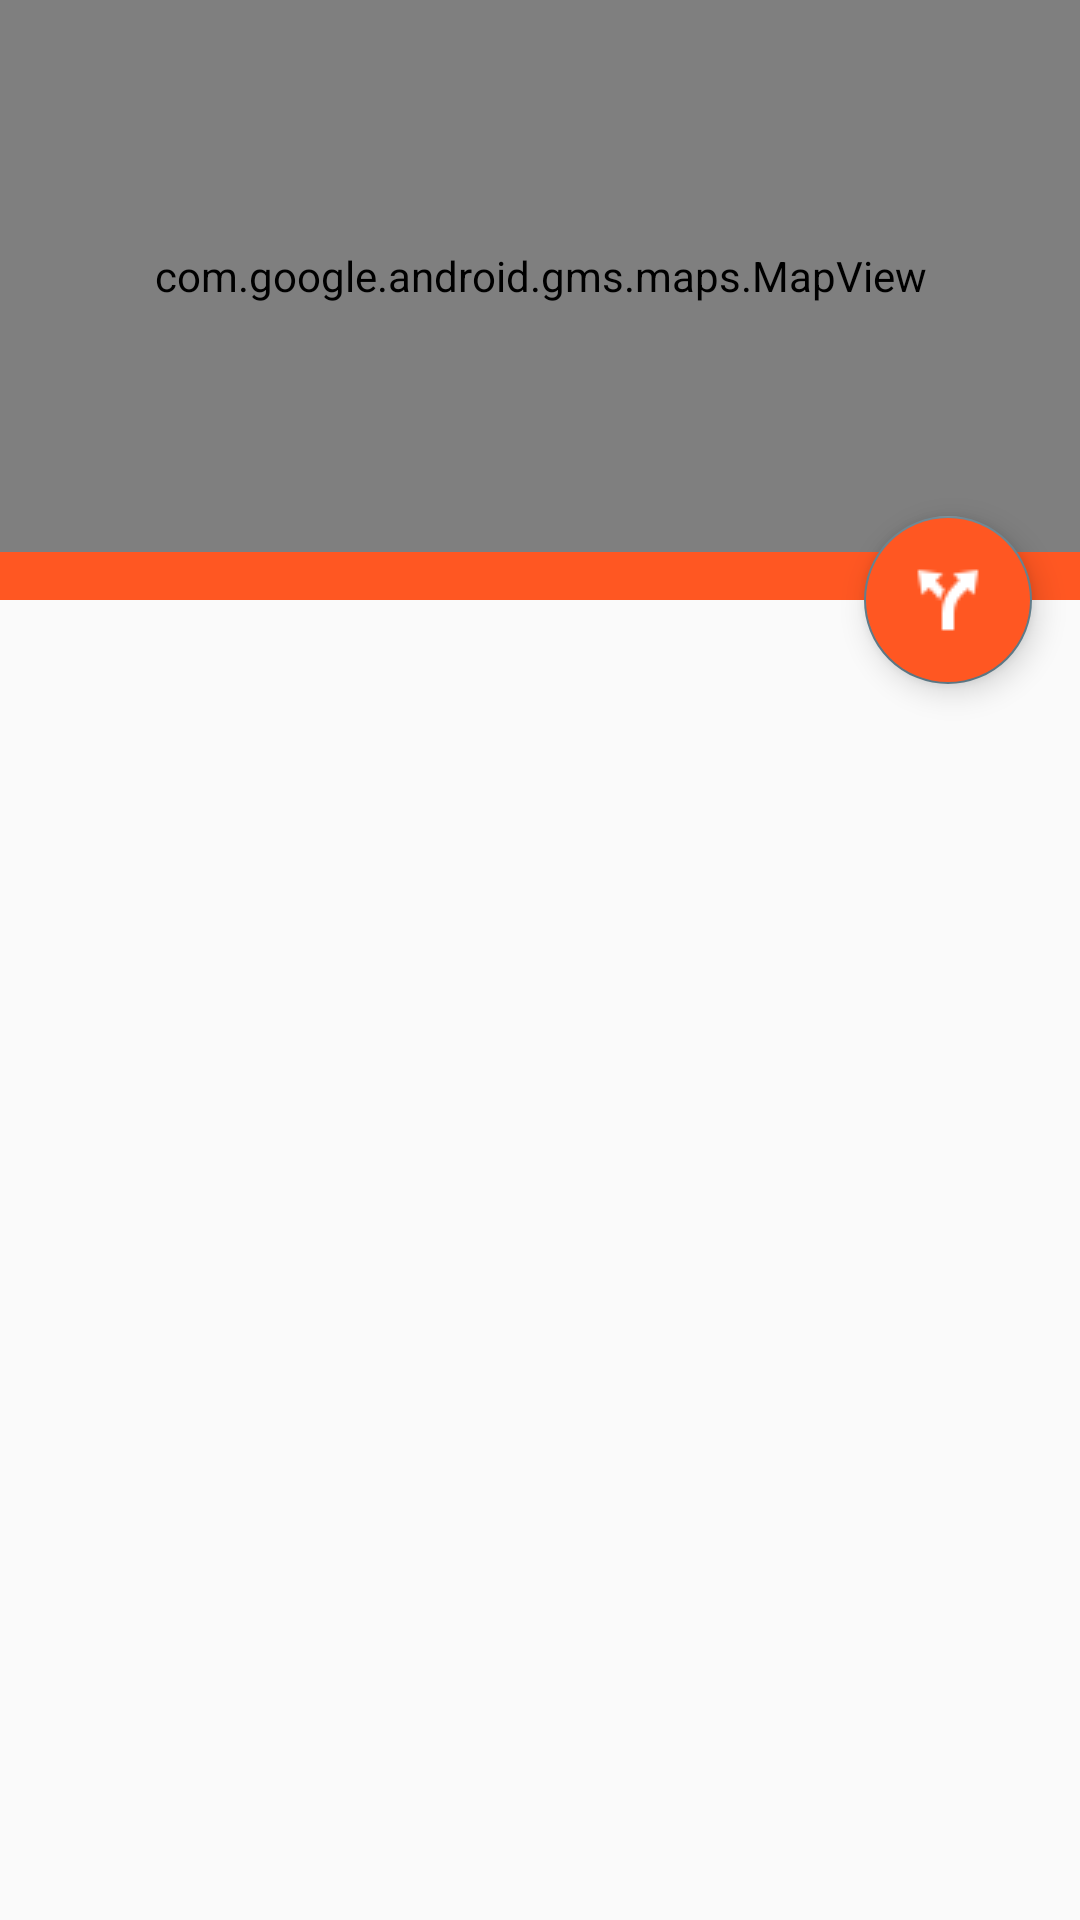

Screen size 1080px×1920px. Icon name, then its center in pixels as (x=x, y=y):
nav: (x=948, y=600)
